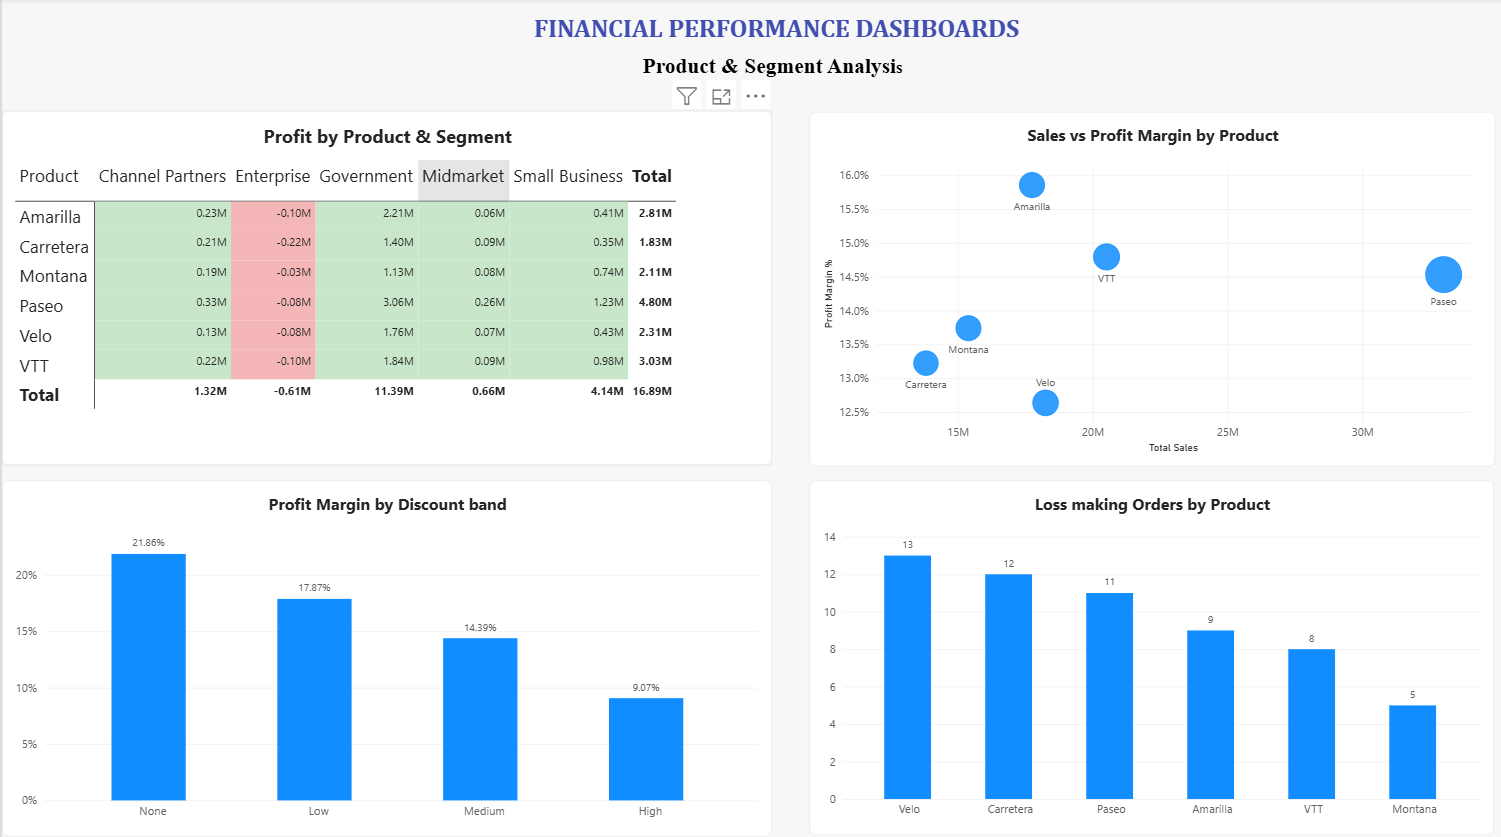

The page's visual inventory and layout, read from the dashboard file:
{"tool":"powerbi","page":{"name":"Product & Segment Analysis","canvas":[1920,1080],"ordinal":1},"visuals":[{"type":"pivotTable","title":"Profit by Product & Segment","fields":{"Rows":["Financials.Product"],"Columns":["Financials.Segment"],"Values":["Measures (2).Total Profit"]},"box":[0,140.6,960.3,442.1],"z":0},{"type":"scatterChart","title":"Sales vs Profit Margin by Product","fields":{"Category":["Financials.Product"],"X":["Measures (2).Total sales"],"Y":["Measures (2).Profit margin"],"Size":["Measures (2).Total Units Sold"]},"box":[1007.8,142.3,855.3,442.1],"z":1000},{"type":"clusteredColumnChart","title":"Profit Margin by Discount band","fields":{"Category":["Financials.Discount Band"],"Y":["Measures (2).Profit margin"]},"box":[0,601.3,960.3,443.8],"z":2000},{"type":"clusteredColumnChart","title":"Loss making Orders by Product","fields":{"Category":["Financials.Product"],"Y":["Measures (2).Loss Making Orders"]},"box":[1007.8,601.3,853.6,442.1],"z":3000},{"type":"textbox","box":[572.5,0,787.6,59.3],"z":4000},{"type":"textbox","box":[537.8,70.2,846.5,40.5],"z":5000}]}

Visuals, with their boxes in screenshot pixels (x1, y1, x2, y2), scaled from the page's 1920x1080 canvas onto the 1501x837 screenshot:
"Profit by Product & Segment" pivotTable: 0 109 751 452
"Sales vs Profit Margin by Product" scatterChart: 788 110 1457 453
"Profit Margin by Discount band" clusteredColumnChart: 0 466 751 810
"Loss making Orders by Product" clusteredColumnChart: 788 466 1455 809
textbox: 448 0 1063 46
textbox: 420 54 1082 86
